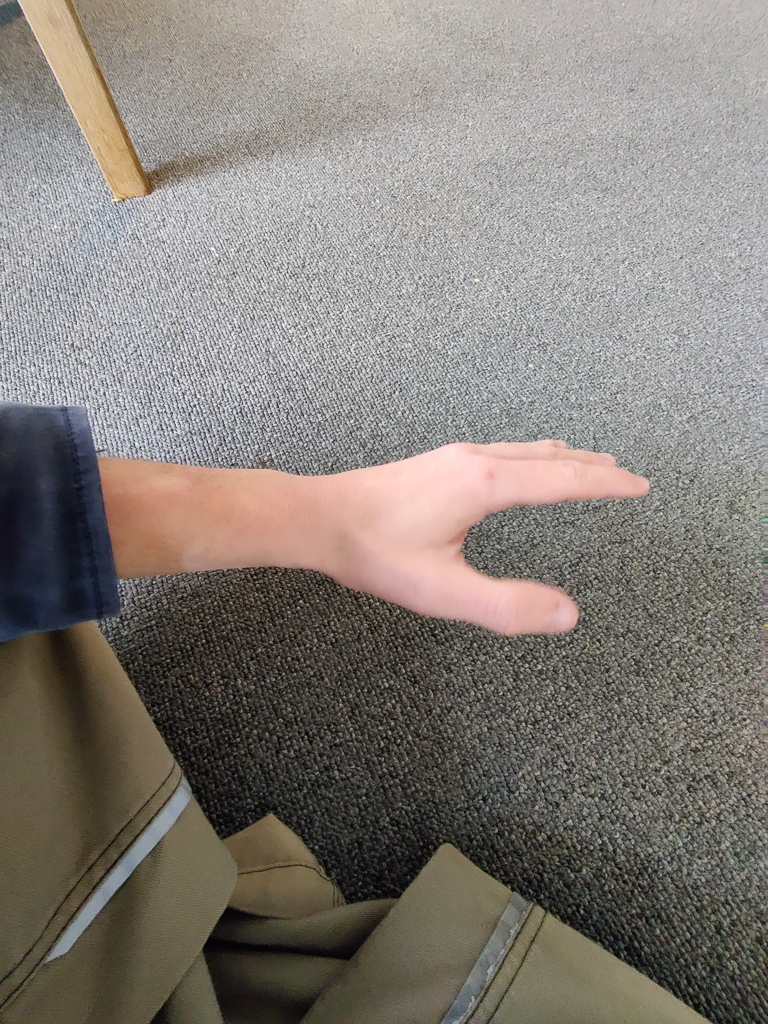Humanoid: (0, 388, 714, 1024)
